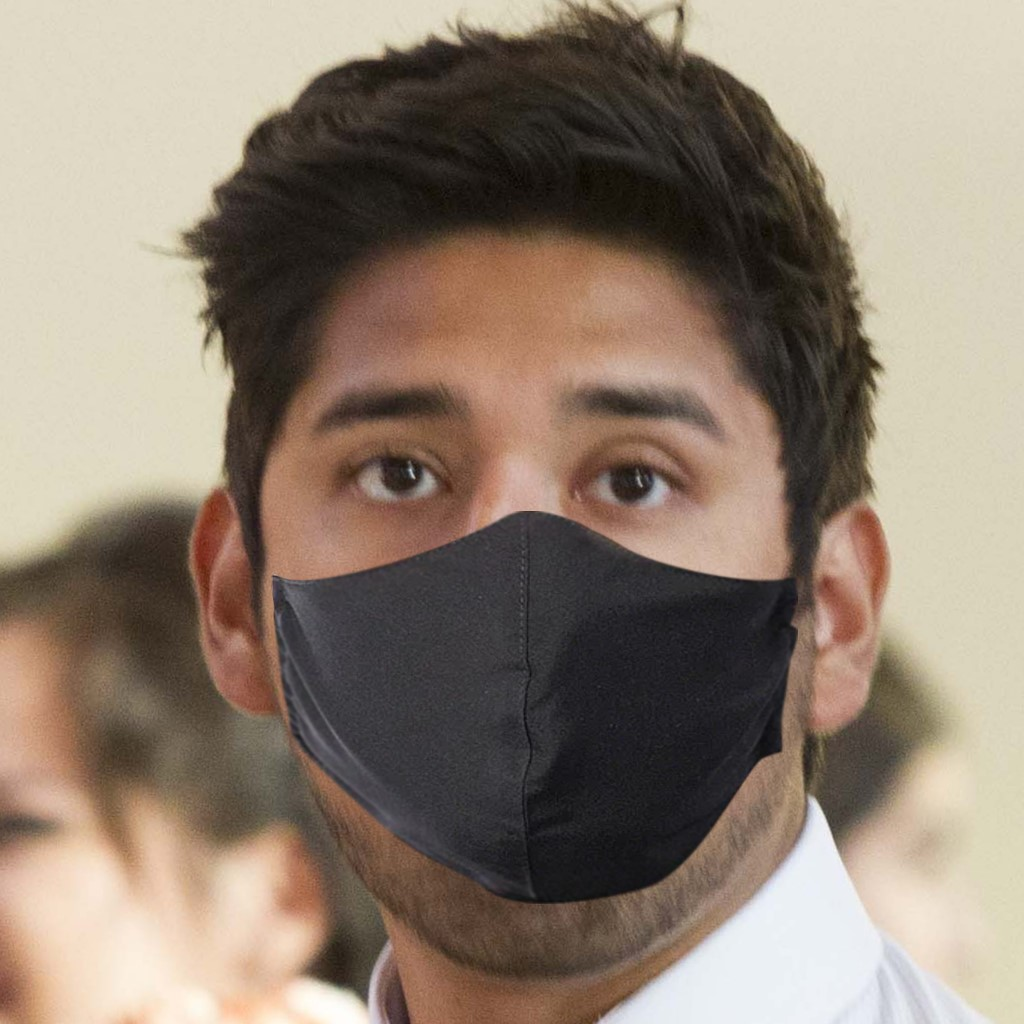con_mascara: (241, 257, 802, 939)
